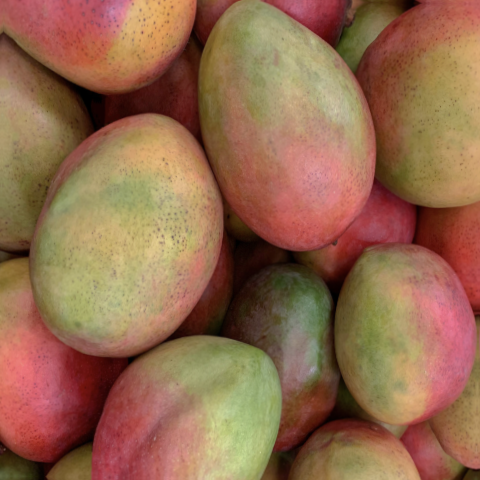mango: (158, 3, 419, 278), (15, 108, 233, 367), (94, 328, 303, 480), (326, 236, 477, 418)
